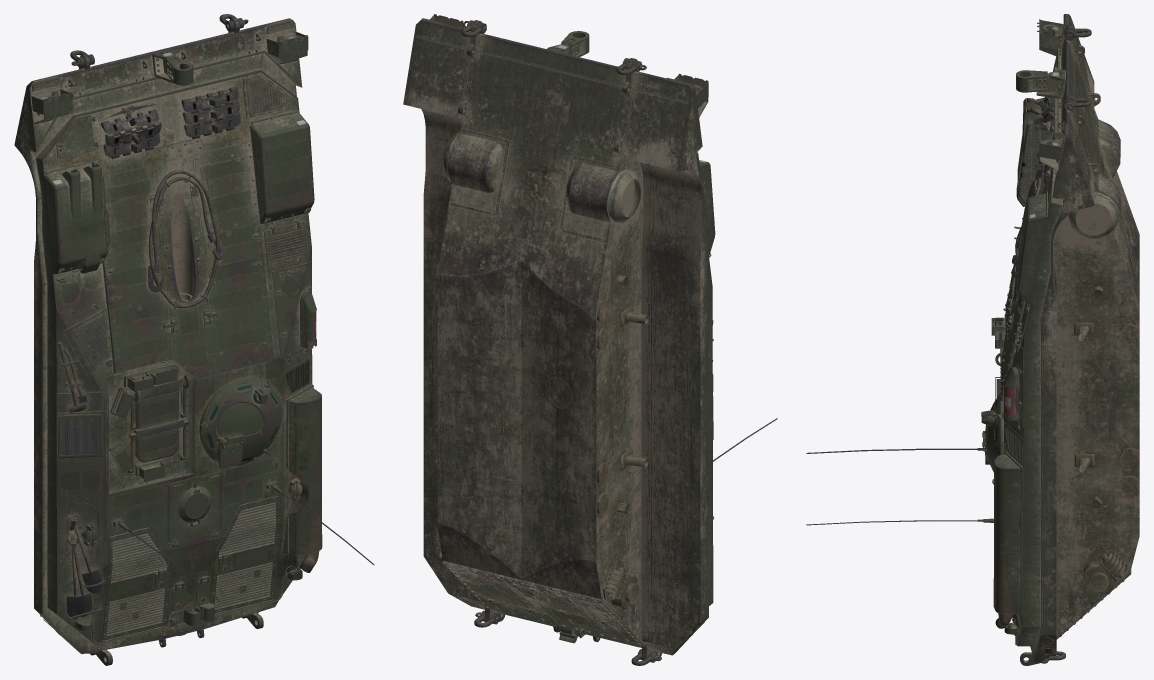
Rendered from Hull.glb.
3 views of the same model, side by side, from view 1: azimuth 30°, elevation 25°; view 2: azimuth 150°, elevation 25°; view 3: azimuth 270°, elevation 25° (orthographic). The views are drawn at different scales.
Parts seen in each view (by area): view 1: set_0_group_0; view 2: set_0_group_0; view 3: set_0_group_0.
Boxes of the visible parts, x1,y1,x2,y2 form: set_0_group_0: (14, 14, 374, 665); set_0_group_0: (403, 14, 777, 665); set_0_group_0: (806, 14, 1139, 665).
Bounding box in the file's own units: 3.3 × 7.03 × 3.75.
1 material, 1 textured.
